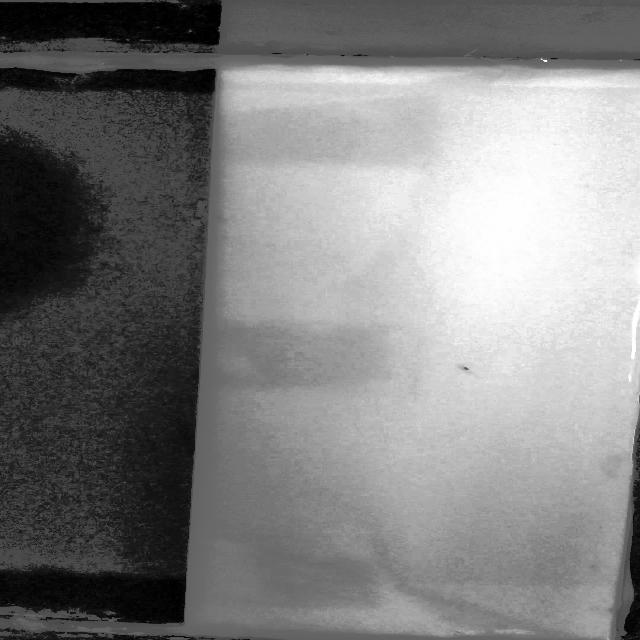shrimp: (449, 362, 495, 378)
